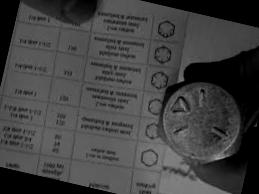hexagonal: (151, 69, 253, 173)
